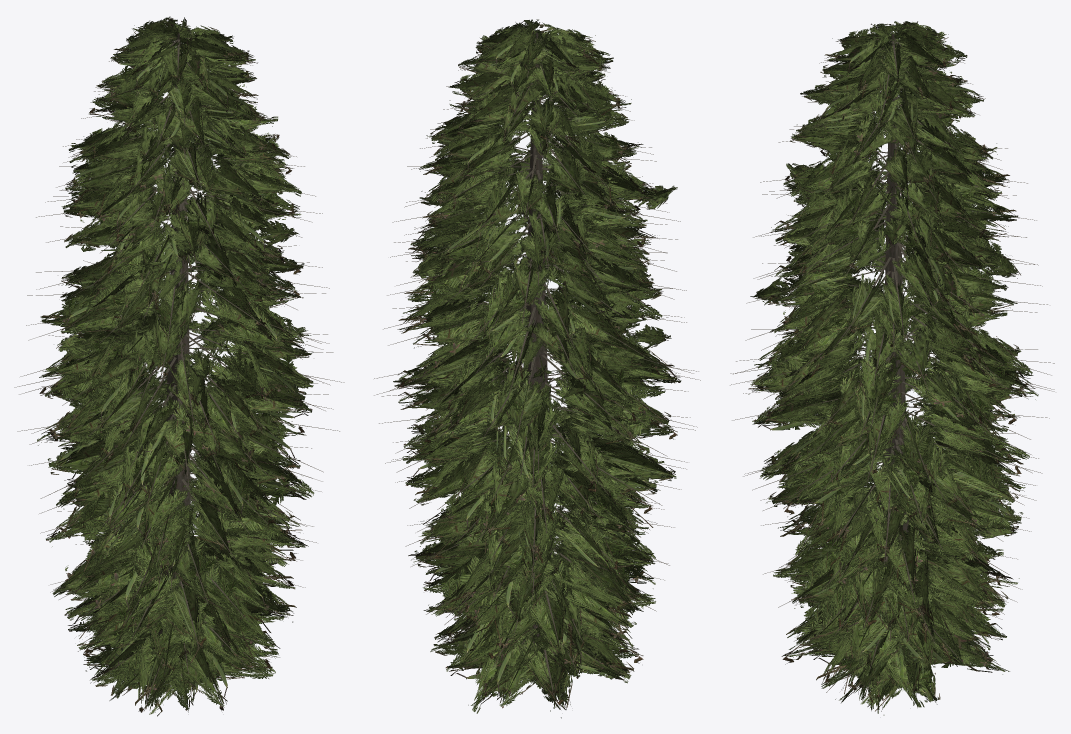
Rendered from conifer_v7_lod1.glb.
3 views of the same model, side by side, from view 1: azimuth 30°, elevation 25°; view 2: azimuth 150°, elevation 25°; view 3: azimuth 270°, elevation 25° (orthographic).
Visible parts, largest first — view 1: conifer_v7_lod1; view 2: conifer_v7_lod1; view 3: conifer_v7_lod1.
Part boxes in pixels (x1,y1,x2,y2): conifer_v7_lod1: (14,16,344,716); conifer_v7_lod1: (374,19,700,718); conifer_v7_lod1: (730,21,1054,715).
Size of the model in its own units: 8.33 by 18.9 by 8.44.
Materials: 1 (1 with a texture image).
